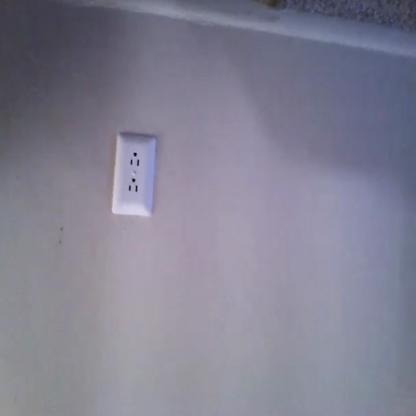OUTLET: (111, 132, 157, 216)
